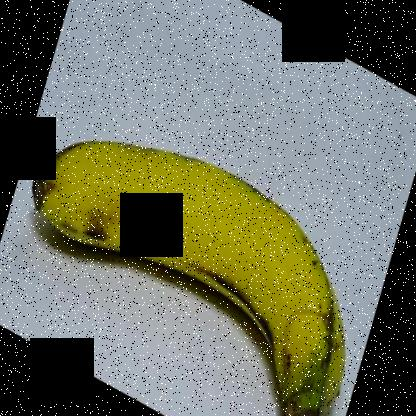freshripe: (26, 121, 369, 415)
